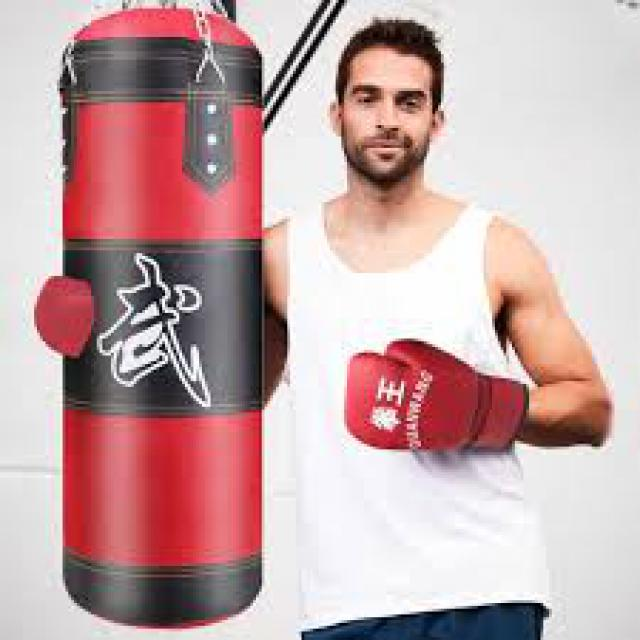Punching Bag: (48, 0, 273, 635)
